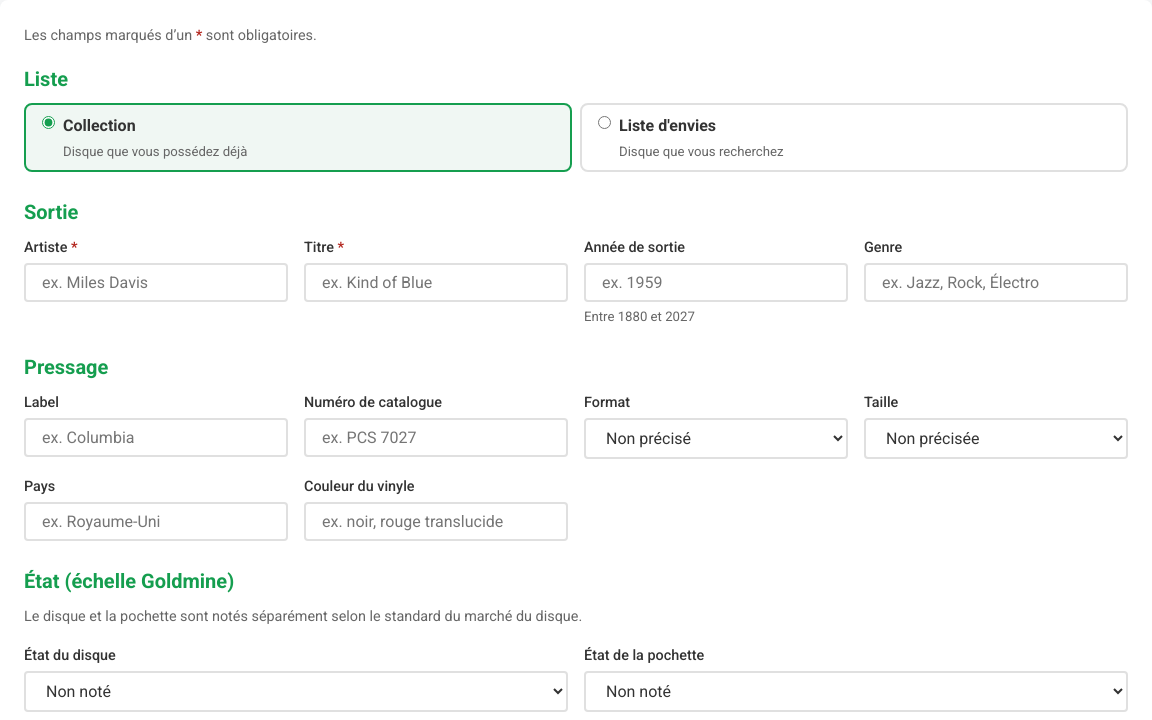
FormulaireVinyle › désactive les actions pendant l’envoi et empêche les doubles soumissions
The width and height of the screenshot is (1152, 720).
Type "Daft Punk" into the field labelled "Artiste *" at (156, 282), box [24, 263, 288, 302]
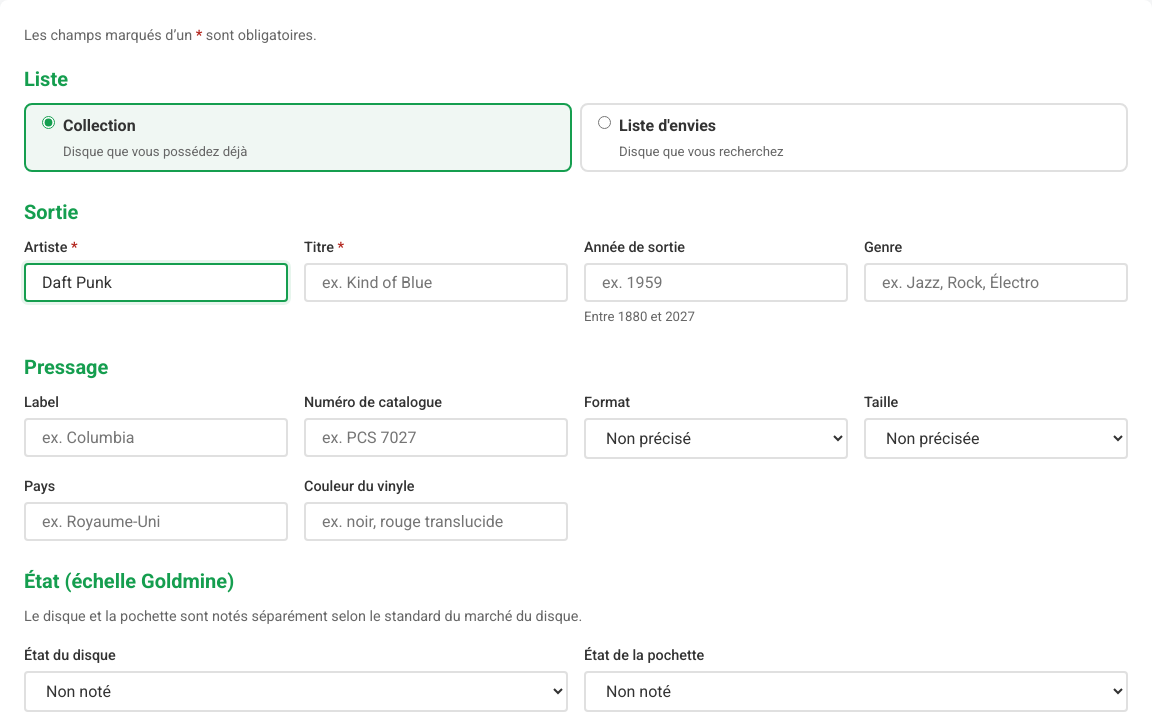
Type "Discovery" into the field labelled "Titre *" at (436, 282), box [304, 263, 568, 302]
(page scrolled)
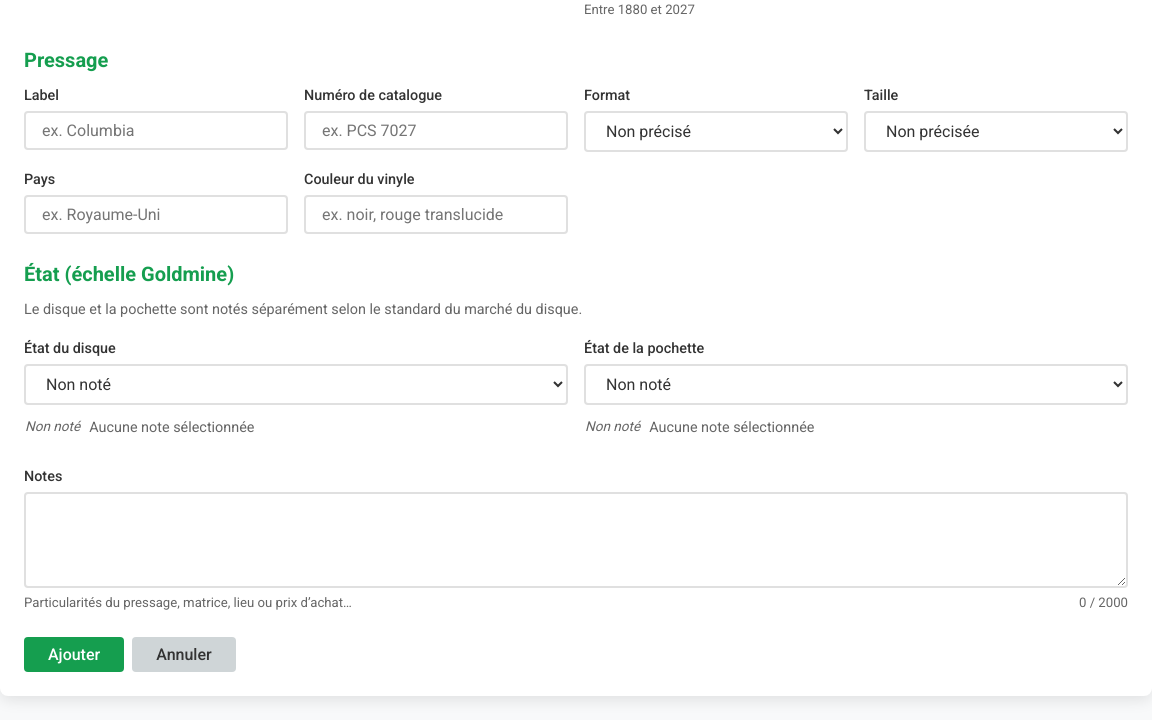
Click the button "Ajouter" at (74, 655), box [24, 637, 124, 672]
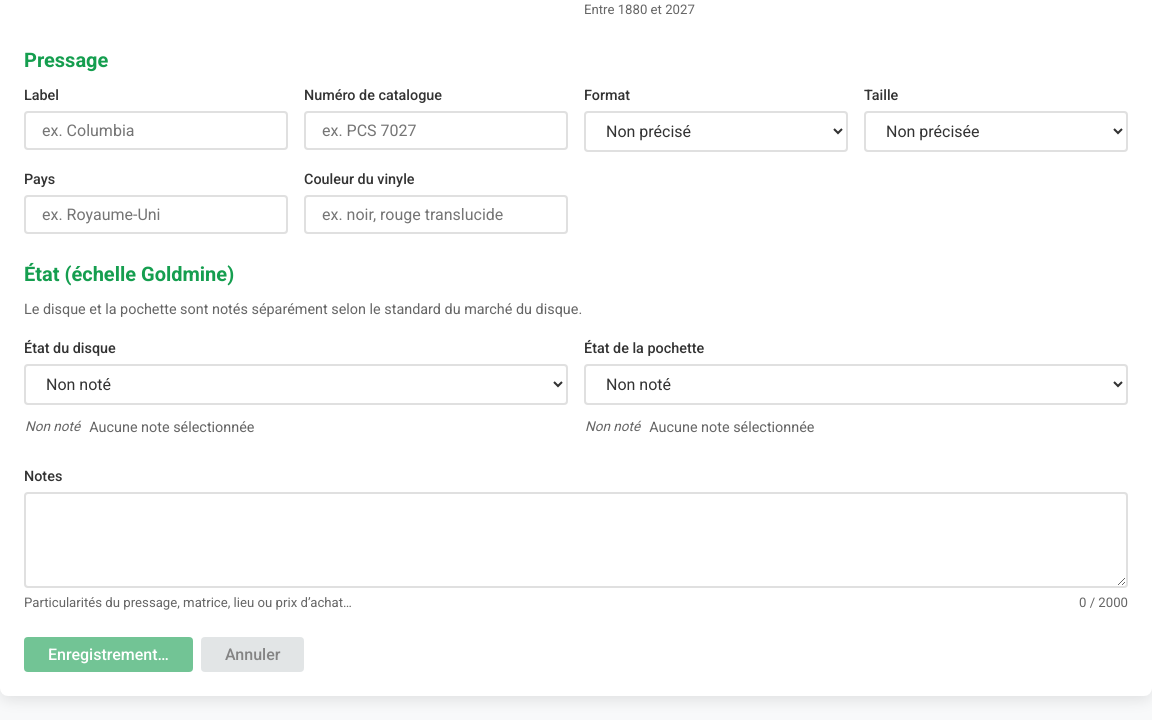
Check: the button "Enregistrement…" is disabled, box [24, 637, 193, 672]
Check: the button "Annuler" is disabled, box [201, 637, 304, 672]
